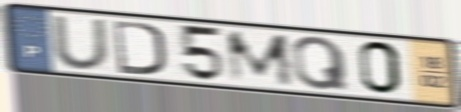0: (356, 40, 405, 98)
5: (174, 22, 227, 84)
D: (110, 18, 169, 78)
M: (223, 30, 298, 88)
Q: (289, 34, 351, 92)
U: (49, 14, 114, 73)
